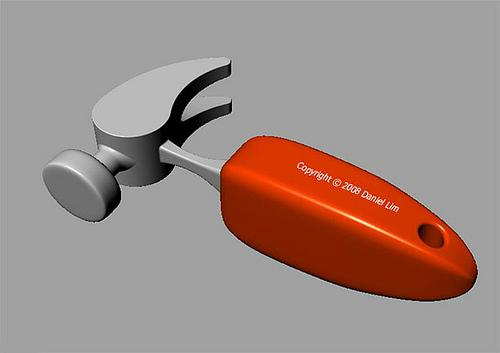hammer: (39, 54, 479, 302)
